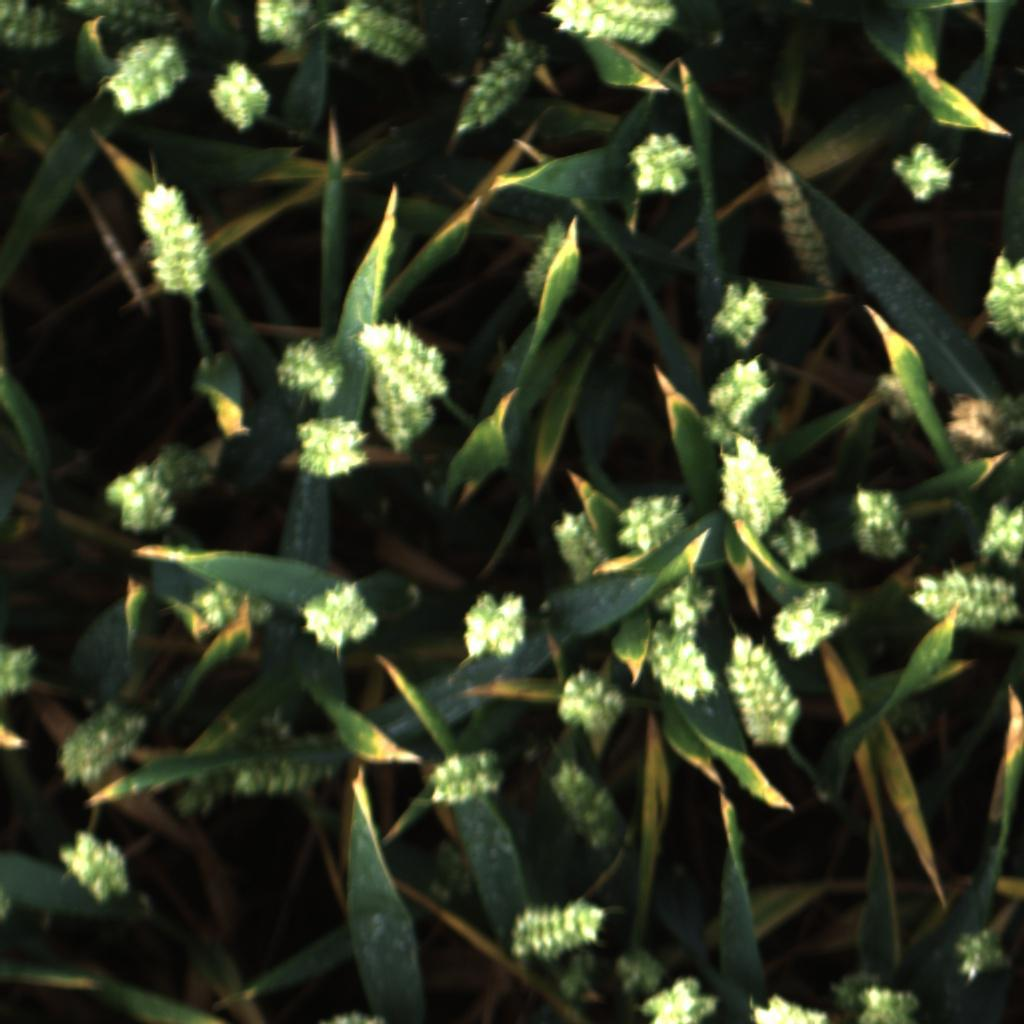0-0: (720, 634, 812, 752), (133, 179, 218, 303), (448, 33, 547, 138), (761, 156, 839, 276), (355, 313, 455, 403), (226, 729, 348, 802), (898, 564, 1024, 633), (545, 757, 630, 859), (714, 430, 796, 533), (322, 1, 439, 71), (57, 697, 145, 790), (105, 30, 191, 120), (502, 891, 610, 962), (932, 387, 1024, 468), (845, 476, 927, 562), (300, 574, 383, 658), (547, 0, 679, 50), (415, 745, 513, 812), (517, 214, 578, 321), (53, 827, 132, 909), (363, 371, 442, 452), (457, 585, 536, 662), (772, 583, 848, 663), (101, 458, 178, 536), (643, 628, 719, 706), (622, 125, 700, 200), (287, 413, 370, 483), (183, 576, 275, 639), (271, 330, 349, 404), (619, 482, 695, 555), (203, 57, 273, 133), (554, 666, 630, 736), (545, 505, 615, 581), (704, 278, 777, 348), (705, 355, 775, 426), (168, 756, 238, 827), (239, 1, 318, 61), (948, 922, 1022, 986), (981, 241, 1024, 346), (887, 140, 955, 206), (148, 439, 221, 498), (1, 0, 72, 60), (63, 0, 182, 35), (643, 972, 722, 1024), (971, 492, 1024, 568), (655, 571, 716, 635), (772, 511, 827, 574), (870, 364, 921, 430), (0, 638, 44, 707), (619, 940, 671, 998), (826, 965, 883, 1015), (852, 984, 923, 1024), (235, 707, 294, 753), (434, 835, 477, 897), (750, 992, 829, 1024), (549, 950, 598, 1000), (310, 1007, 394, 1023)
